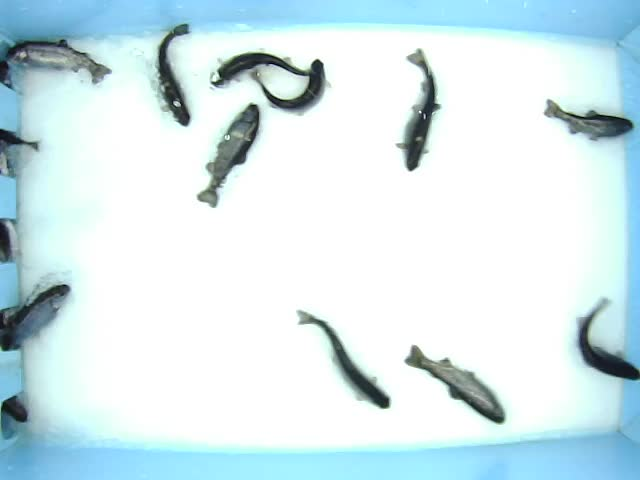fish: (293, 308, 391, 414), (403, 344, 506, 426), (195, 103, 261, 209), (395, 46, 442, 174), (577, 298, 640, 383), (247, 59, 331, 119), (8, 39, 111, 87), (208, 49, 319, 89), (154, 23, 195, 127), (543, 99, 633, 144)
